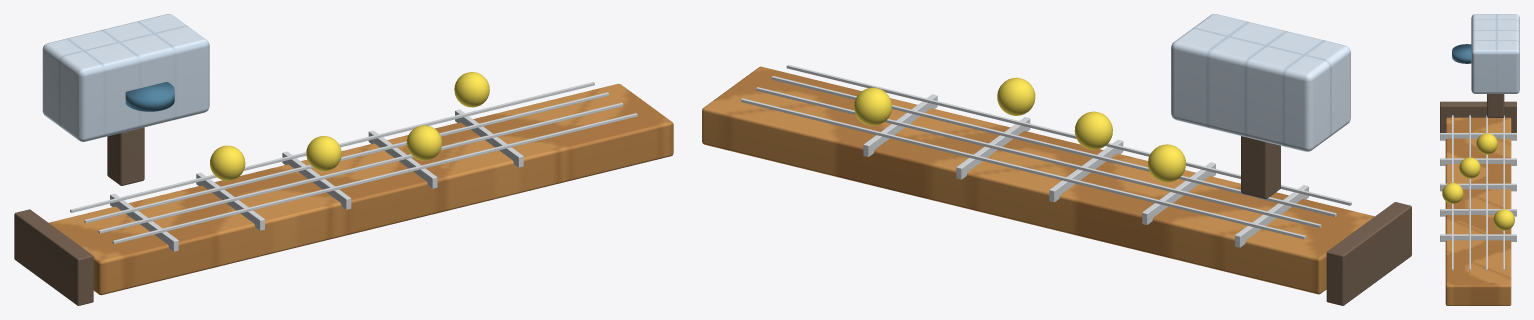
File: guitar-camera.glb
The picture shows the model from 3 angles, left to right: view 1: azimuth 30°, elevation 25°; view 2: azimuth 150°, elevation 25°; view 3: azimuth 270°, elevation 25°; orthographic projection. The views are drawn at different scales.
Parts seen in each view (by area): view 1: guitar_neck, webcam_body, nut, string.003, string.002, string.001, string, camera_mount, webcam_lens, scale_note.003, scale_note.001, scale_note (+6 smaller); view 2: guitar_neck, webcam_body, nut, string, string.001, string.002, camera_mount, string.003, scale_note.001, scale_note.002, scale_note.003, scale_note (+5 smaller); view 3: guitar_neck, webcam_body, nut, fret.004, camera_mount, fret.002, fret, fret.003, fret.001, scale_note, scale_note.003, scale_note.001 (+6 smaller).
Boxes of the visible parts, left/top/right/bottom form: guitar_neck: left=49, top=83, right=673, bottom=295; webcam_body: left=42, top=14, right=209, bottom=141; nut: left=14, top=209, right=93, bottom=305; string.003: left=112, top=113, right=637, bottom=244; string.002: left=98, top=102, right=623, bottom=233; string.001: left=84, top=92, right=608, bottom=223; string: left=70, top=82, right=594, bottom=212; camera_mount: left=107, top=127, right=144, bottom=185; webcam_lens: left=125, top=82, right=174, bottom=111; scale_note.003: left=454, top=72, right=489, bottom=107; scale_note.001: left=306, top=136, right=341, bottom=171; scale_note: left=210, top=145, right=245, bottom=180; guitar_neck: left=702, top=66, right=1374, bottom=294; webcam_body: left=1171, top=14, right=1350, bottom=151; nut: left=1326, top=202, right=1411, bottom=305; string: left=741, top=98, right=1305, bottom=239; string.001: left=756, top=87, right=1321, bottom=228; string.002: left=771, top=76, right=1336, bottom=216; camera_mount: left=1241, top=136, right=1280, bottom=199; string.003: left=786, top=64, right=1351, bottom=205; scale_note.001: left=1074, top=111, right=1112, bottom=149; scale_note.002: left=997, top=77, right=1035, bottom=115; scale_note.003: left=854, top=87, right=892, bottom=125; scale_note: left=1148, top=144, right=1185, bottom=182; guitar_neck: left=1445, top=117, right=1511, bottom=305; webcam_body: left=1471, top=14, right=1519, bottom=93; nut: left=1440, top=101, right=1516, bottom=132; fret.004: left=1440, top=234, right=1516, bottom=241; camera_mount: left=1487, top=94, right=1504, bottom=117; fret.002: left=1440, top=183, right=1516, bottom=191; fret: left=1440, top=133, right=1516, bottom=140; fret.003: left=1440, top=209, right=1516, bottom=216; fret.001: left=1440, top=158, right=1516, bottom=165; scale_note: left=1476, top=133, right=1497, bottom=154; scale_note.003: left=1493, top=209, right=1514, bottom=230; scale_note.001: left=1459, top=157, right=1480, bottom=178.
Bounding box in the file's own units: 2.93 × 0.97 × 0.56.
Materials: 6 (2 with a texture image).
